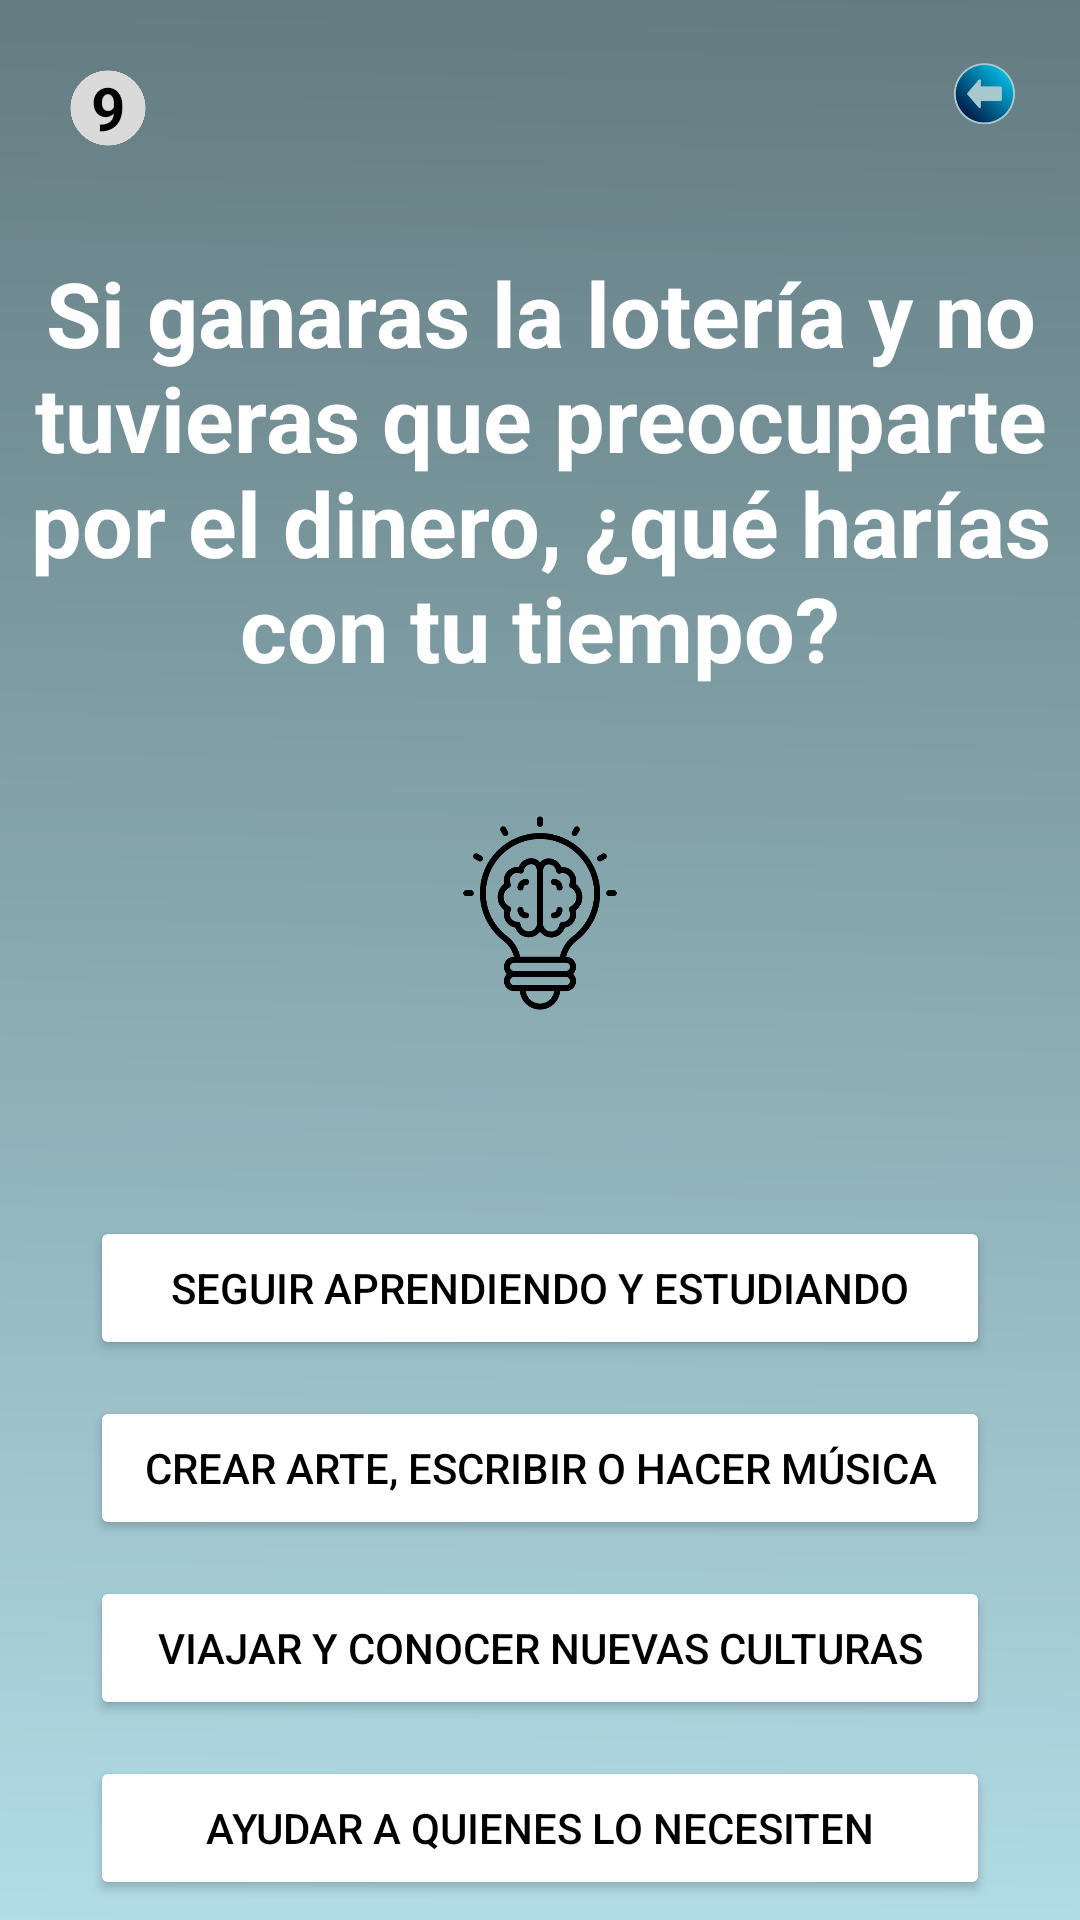

Icons on this 1080 x 1920 Android screen, each with the point to tap as point (x, y):
idea: point (540, 913)
retroceso: point (984, 93)
